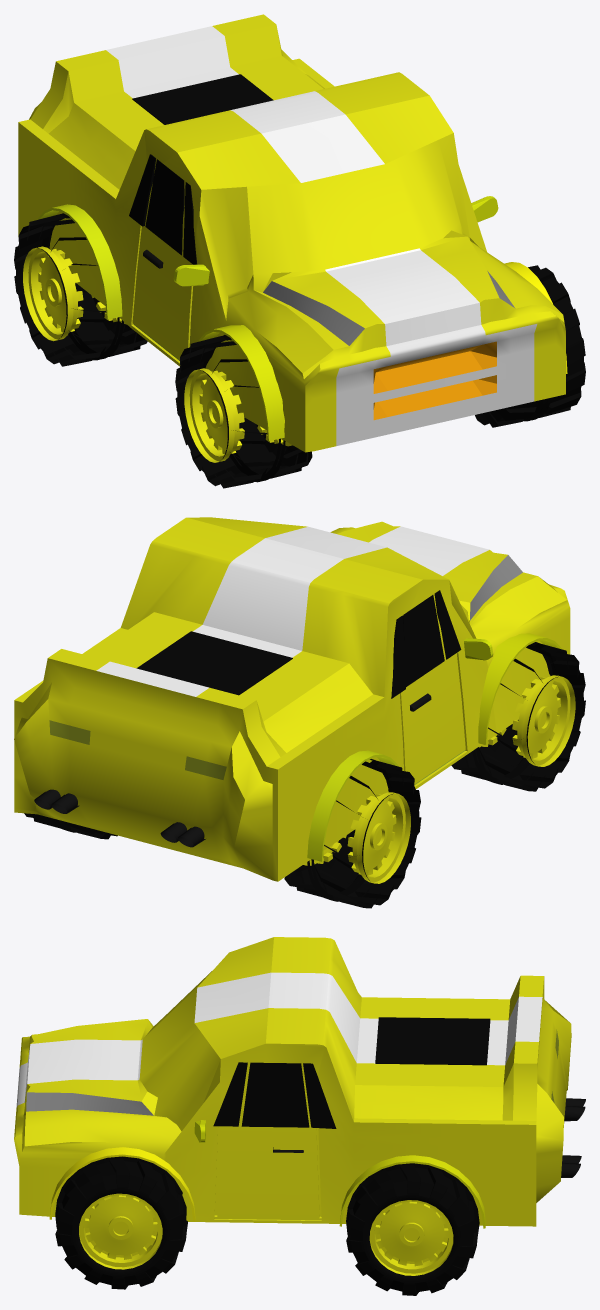
The model's file is car1_LOD0.fbx.
The picture shows the model from 3 angles, top to bottom: view 1: azimuth 30°, elevation 25°; view 2: azimuth 150°, elevation 25°; view 3: azimuth 270°, elevation 25°; orthographic projection. The views are drawn at different scales.
Visible parts, largest first — view 1: car1; view 2: car1; view 3: car1.
Boxes of the visible parts, x1=… form: car1: x1=14, y1=14, x2=585, y2=488; car1: x1=14, y1=517, x2=585, y2=908; car1: x1=14, y1=937, x2=585, y2=1295.
Bounding box in the file's own units: 130 × 88.92 × 200.
